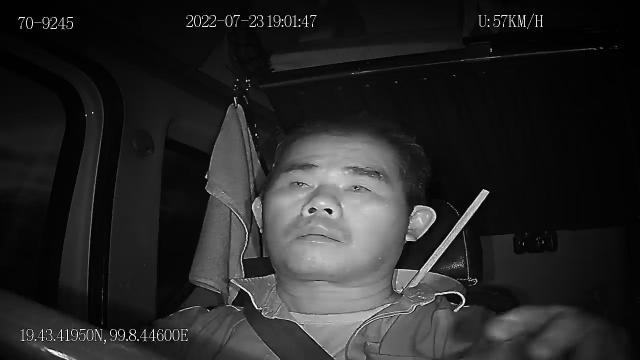SafeDriving: (336, 171, 383, 200), (278, 168, 320, 197)
Seatbelt: (243, 306, 337, 360)
